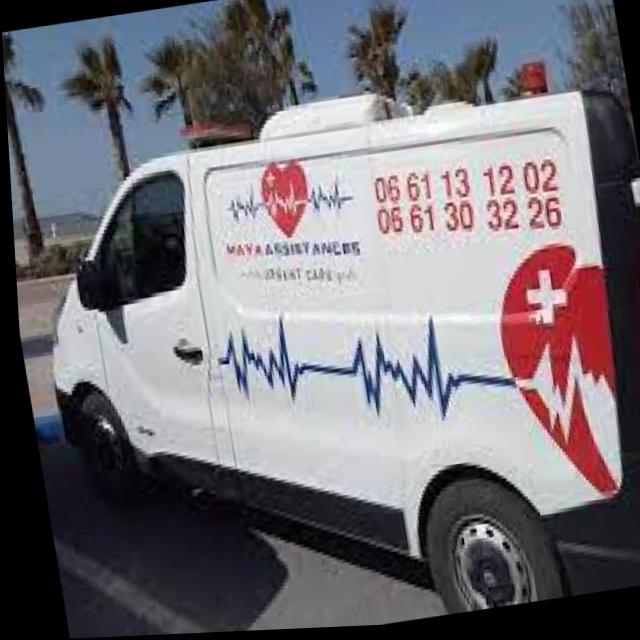ambulance: (2, 26, 640, 640)
